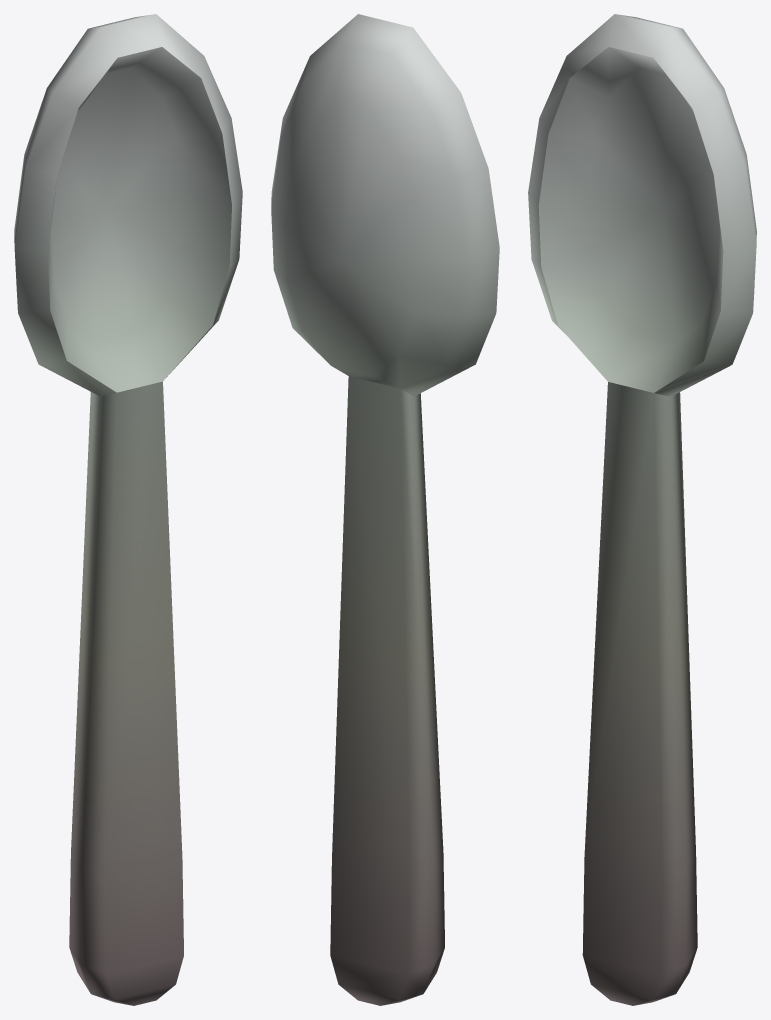
Rendered from Spoon_Big_02.glb.
The picture shows the model from 3 angles, left to right: view 1: azimuth 30°, elevation 25°; view 2: azimuth 150°, elevation 25°; view 3: azimuth 330°, elevation 25°; orthographic projection.
Parts seen in each view (by area): view 1: Spoon_Big_02; view 2: Spoon_Big_02; view 3: Spoon_Big_02.
Part boxes in pixels (x1,y1,x2,y2): Spoon_Big_02: (14,14,242,1005); Spoon_Big_02: (271,14,499,1005); Spoon_Big_02: (528,14,756,1005).
Bounding box in the file's own units: 0.1307 × 0.5352 × 0.063.
1 material, 1 textured.
